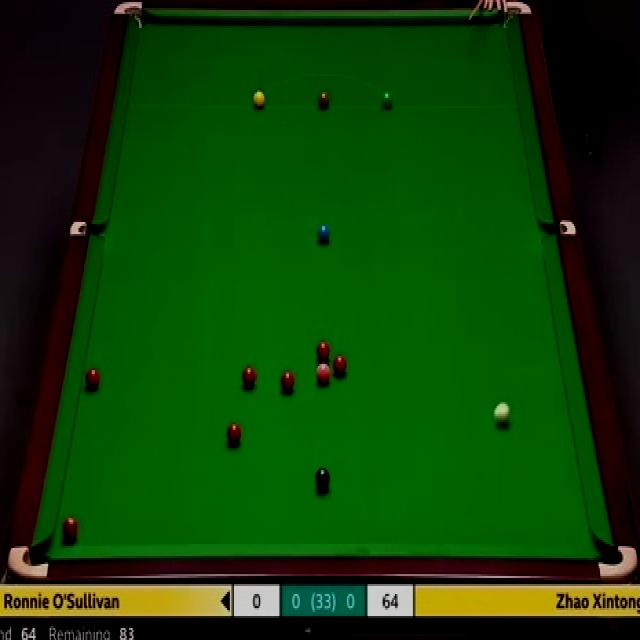black-ball: (315, 466, 331, 493)
blue-ball: (318, 224, 331, 247)
brown-ball: (318, 93, 330, 110)
green-ball: (382, 90, 393, 110)
pink-ball: (314, 361, 331, 387)
red-ball: (62, 517, 80, 543), (84, 366, 102, 392), (315, 337, 332, 362), (332, 350, 347, 376), (225, 422, 241, 446), (241, 366, 256, 390), (279, 372, 294, 392)
white-ball: (493, 398, 512, 430)
yellow-ball: (252, 89, 267, 110)
